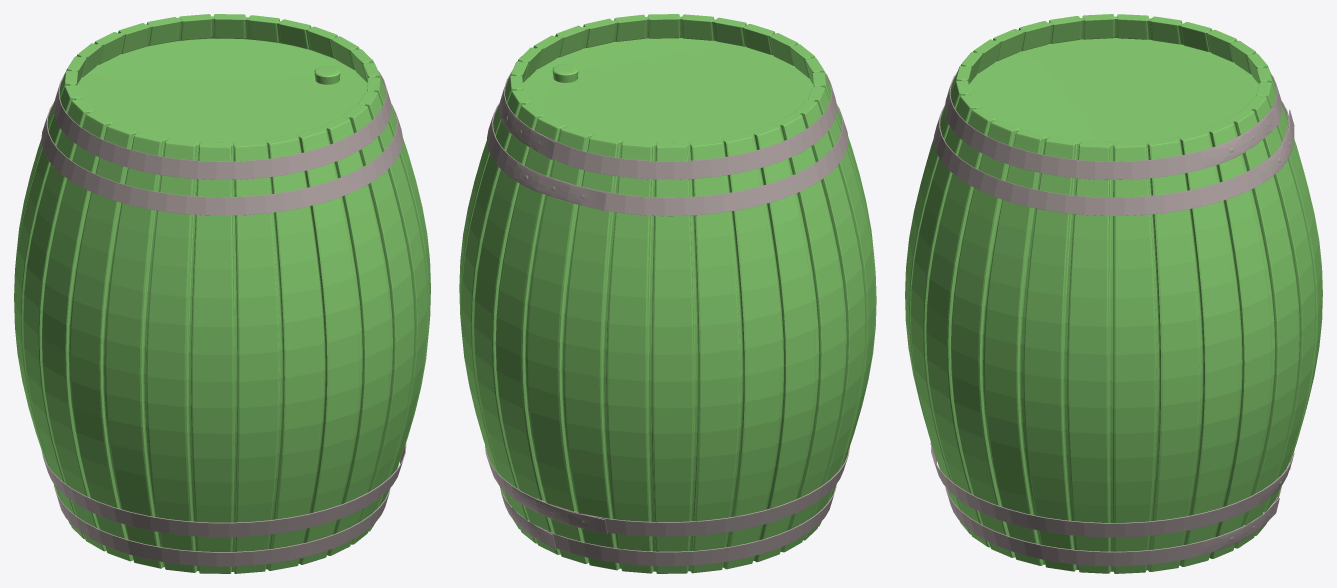
Rendered from Barrell_OAK_BLENDER_262.fbx.
3 views of the same model, side by side, from view 1: azimuth 30°, elevation 25°; view 2: azimuth 150°, elevation 25°; view 3: azimuth 270°, elevation 25° (orthographic).
Parts seen in each view (by area): view 1: Mesh; view 2: Mesh; view 3: Mesh.
Boxes of the visible parts, box(x1,y1,x2,y2) form: Mesh: box(14, 14, 430, 573); Mesh: box(459, 14, 876, 573); Mesh: box(905, 14, 1322, 573).
Bounding box in the file's own units: 88101 × 99249 × 88088.
